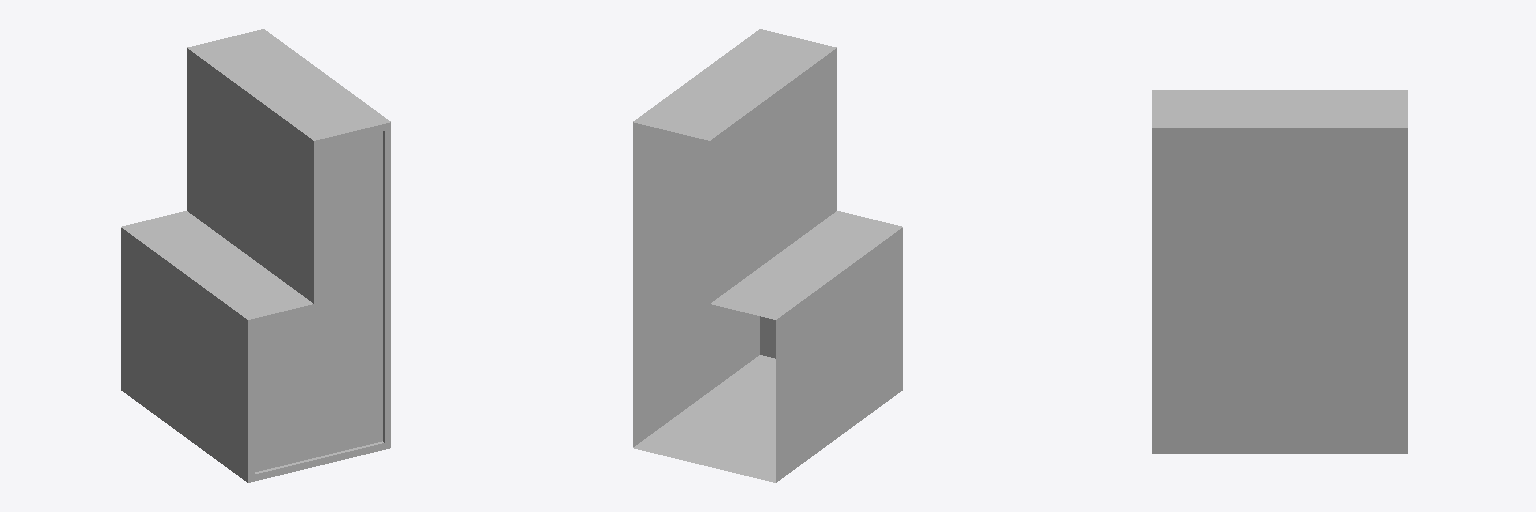
Rendered from tower4.obj.
The picture shows the model from 3 angles: view 1: azimuth 30°, elevation 25°; view 2: azimuth 150°, elevation 25°; view 3: azimuth 270°, elevation 25°; orthographic projection.
Parts seen in each view (by area): view 1: tower4; view 2: tower4; view 3: tower4.
Part boxes in pixels (bbox=[...]): tower4: bbox=[121, 29, 390, 482]; tower4: bbox=[633, 29, 902, 482]; tower4: bbox=[1152, 90, 1407, 453].
Bounding box in the file's own units: 22.46 × 48.78 × 34.58.